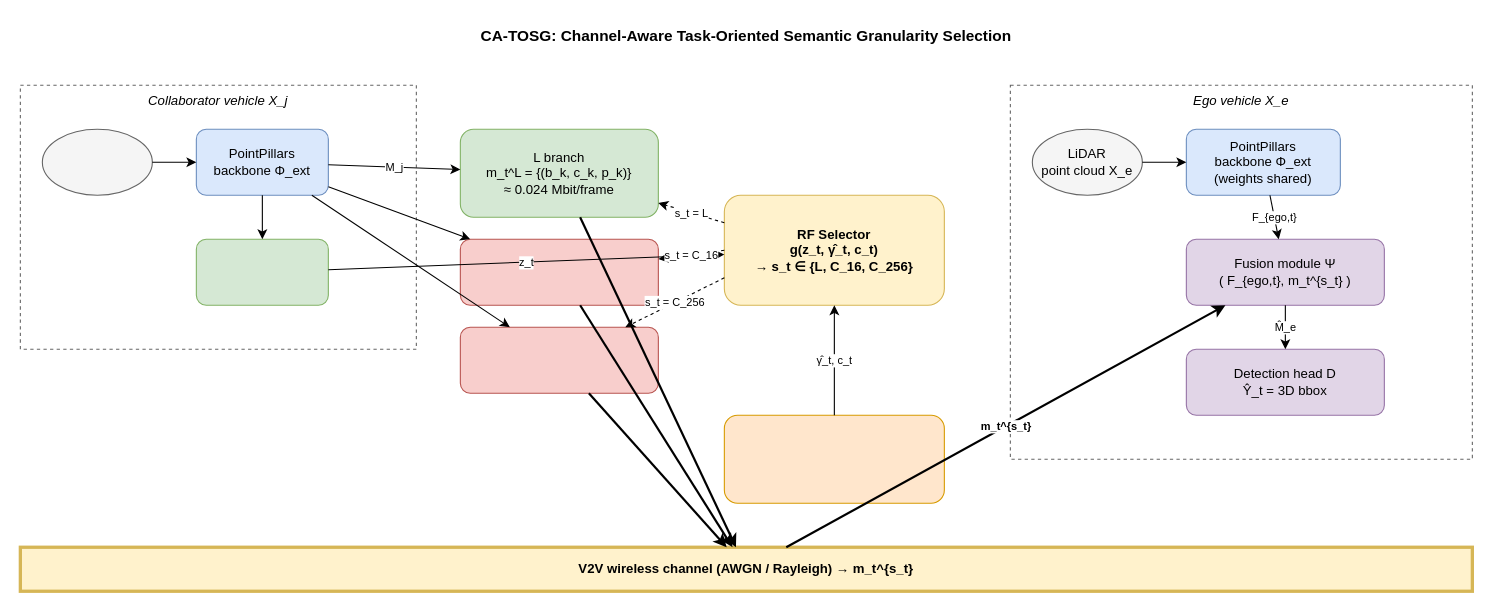
This 1493x612 diagram has some shape labels left out. The box of each missing label's shape, as (x1, y1, x2, y2) in pixels:
C_16 branch φ_16(F_{j,t}) 16-QAM ≈ 0.495 Mbit/frame: (459, 238, 658, 305)
C_256 branch φ_256(F_{j,t}) 256-QAM ≈ 0.248 Mbit/frame: (459, 326, 658, 393)
Channel quality estimator γ̂_t (SNR dB), c_t: (723, 414, 944, 503)
Cue extractor z_t ∈ R^21: (195, 238, 328, 305)
LiDAR point cloud X_j: (41, 128, 152, 195)
